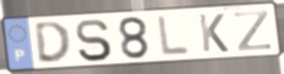8: (116, 15, 151, 61)
D: (33, 20, 74, 66)
K: (196, 12, 231, 53)
L: (156, 14, 192, 59)
S: (74, 17, 114, 63)
Z: (232, 9, 273, 53)
